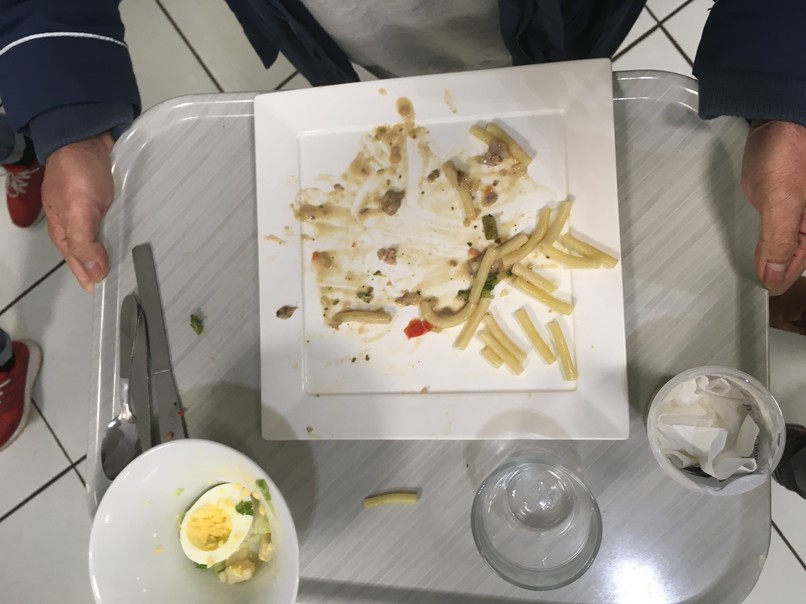cup: (459, 451, 638, 604)
cutlery: (80, 244, 225, 489)
orga: (177, 479, 281, 591)
trash: (437, 124, 609, 385), (652, 355, 791, 500)
